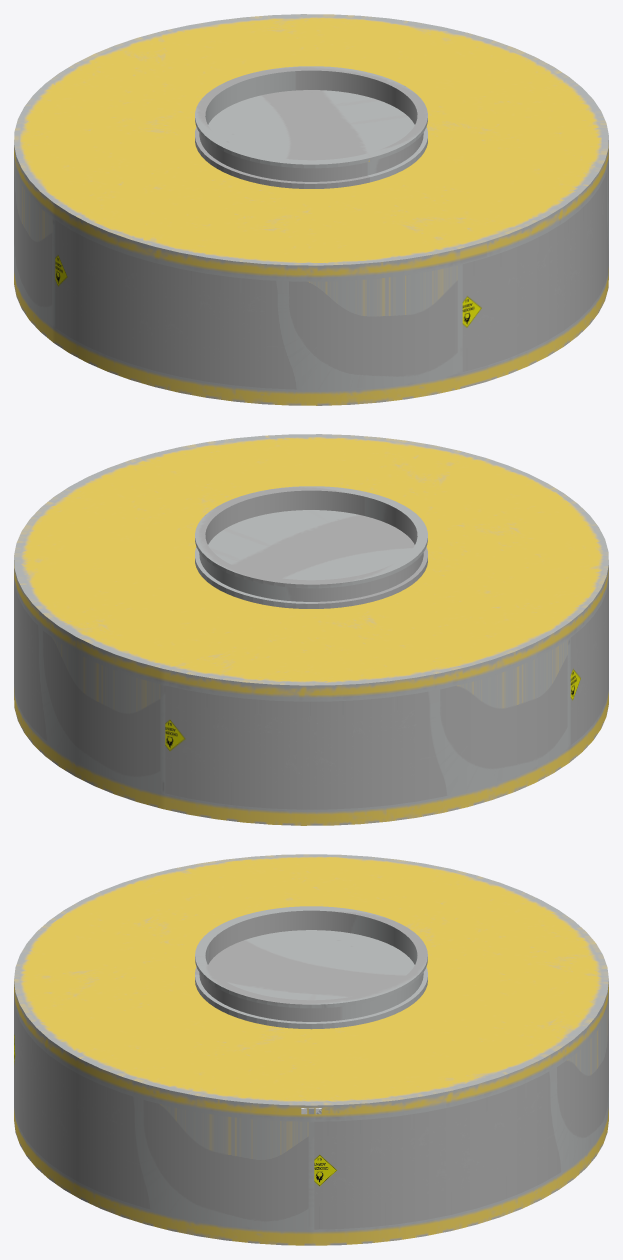
3 views of the same model, one above another, from view 1: azimuth 30°, elevation 25°; view 2: azimuth 150°, elevation 25°; view 3: azimuth 270°, elevation 25° (orthographic).
Visible parts, largest first — view 1: probe; view 2: probe; view 3: probe.
Part boxes in pixels (left/top/right/bottom): probe: left=14, top=14, right=608, bottom=405; probe: left=14, top=434, right=608, bottom=825; probe: left=14, top=854, right=608, bottom=1245.
Bounding box in the file's own units: 5.02 × 1.53 × 5.
